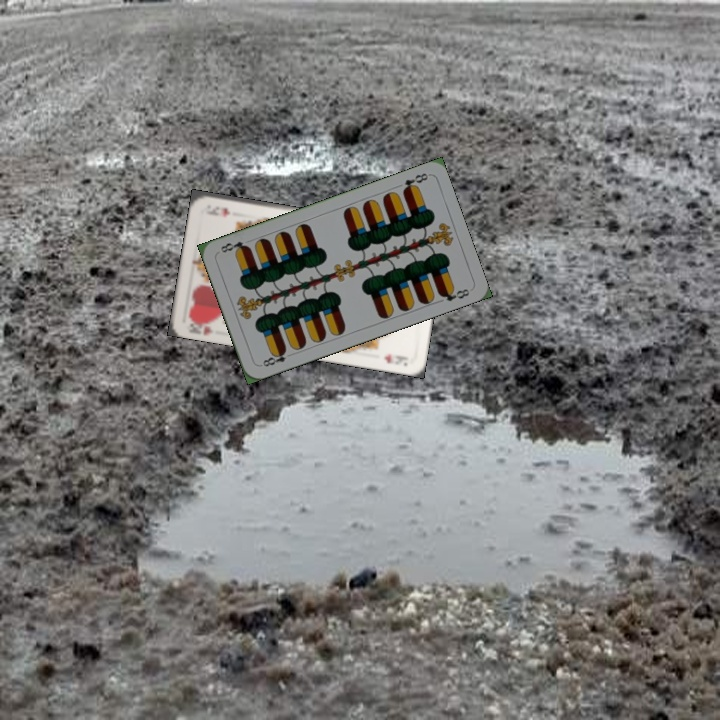E8: (256, 345, 296, 369), (398, 169, 431, 195)
HK: (185, 314, 217, 337)
